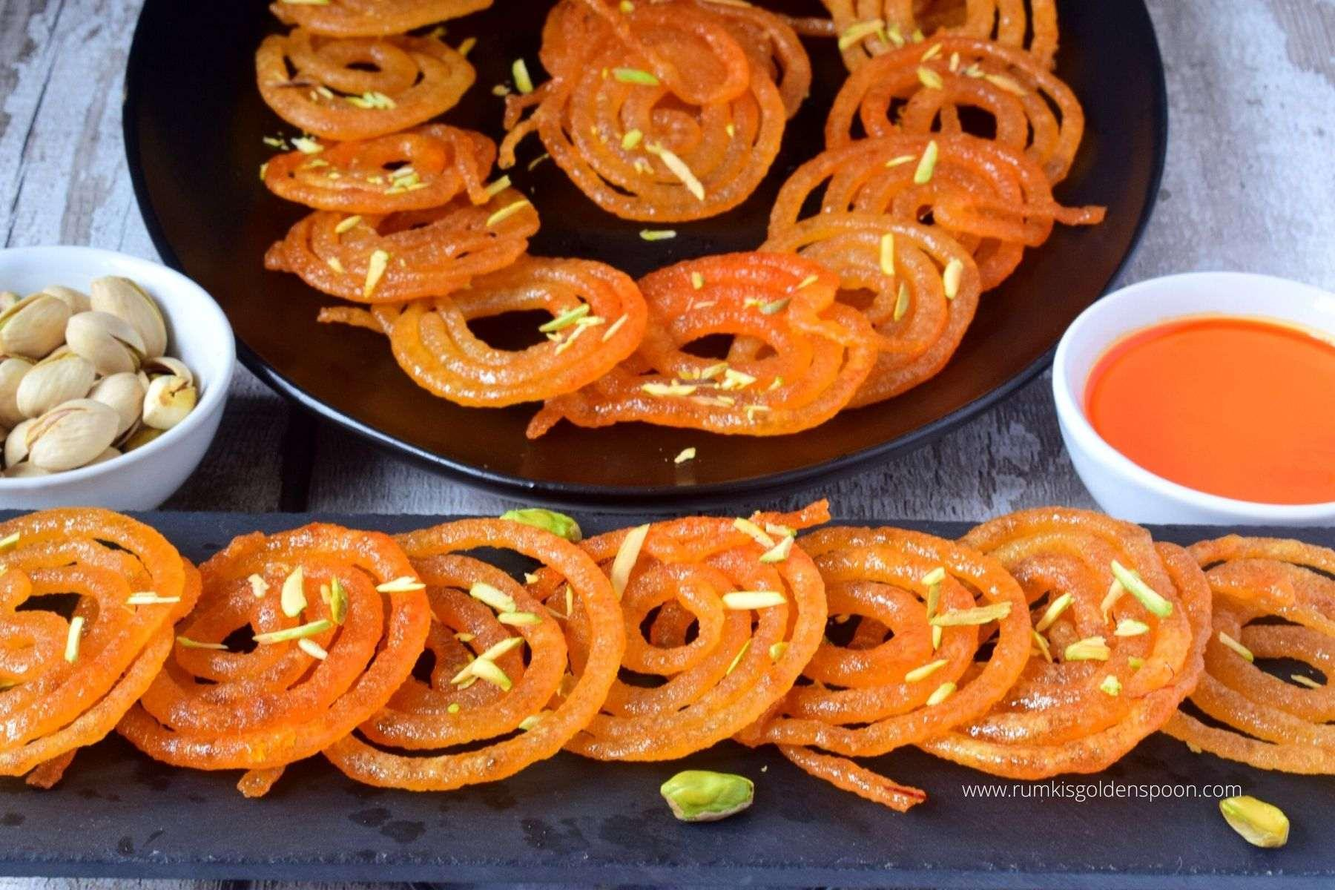jalebi: (240, 6, 1108, 449), (0, 515, 1310, 783)
